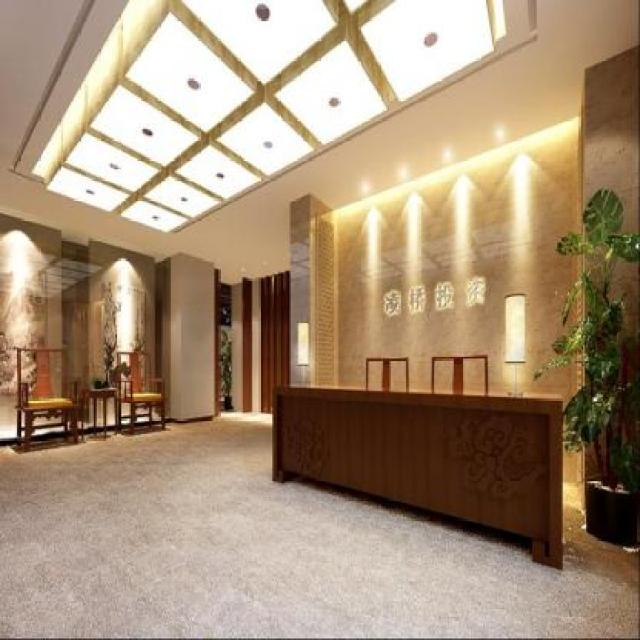frontdesk: (264, 362, 582, 580)
